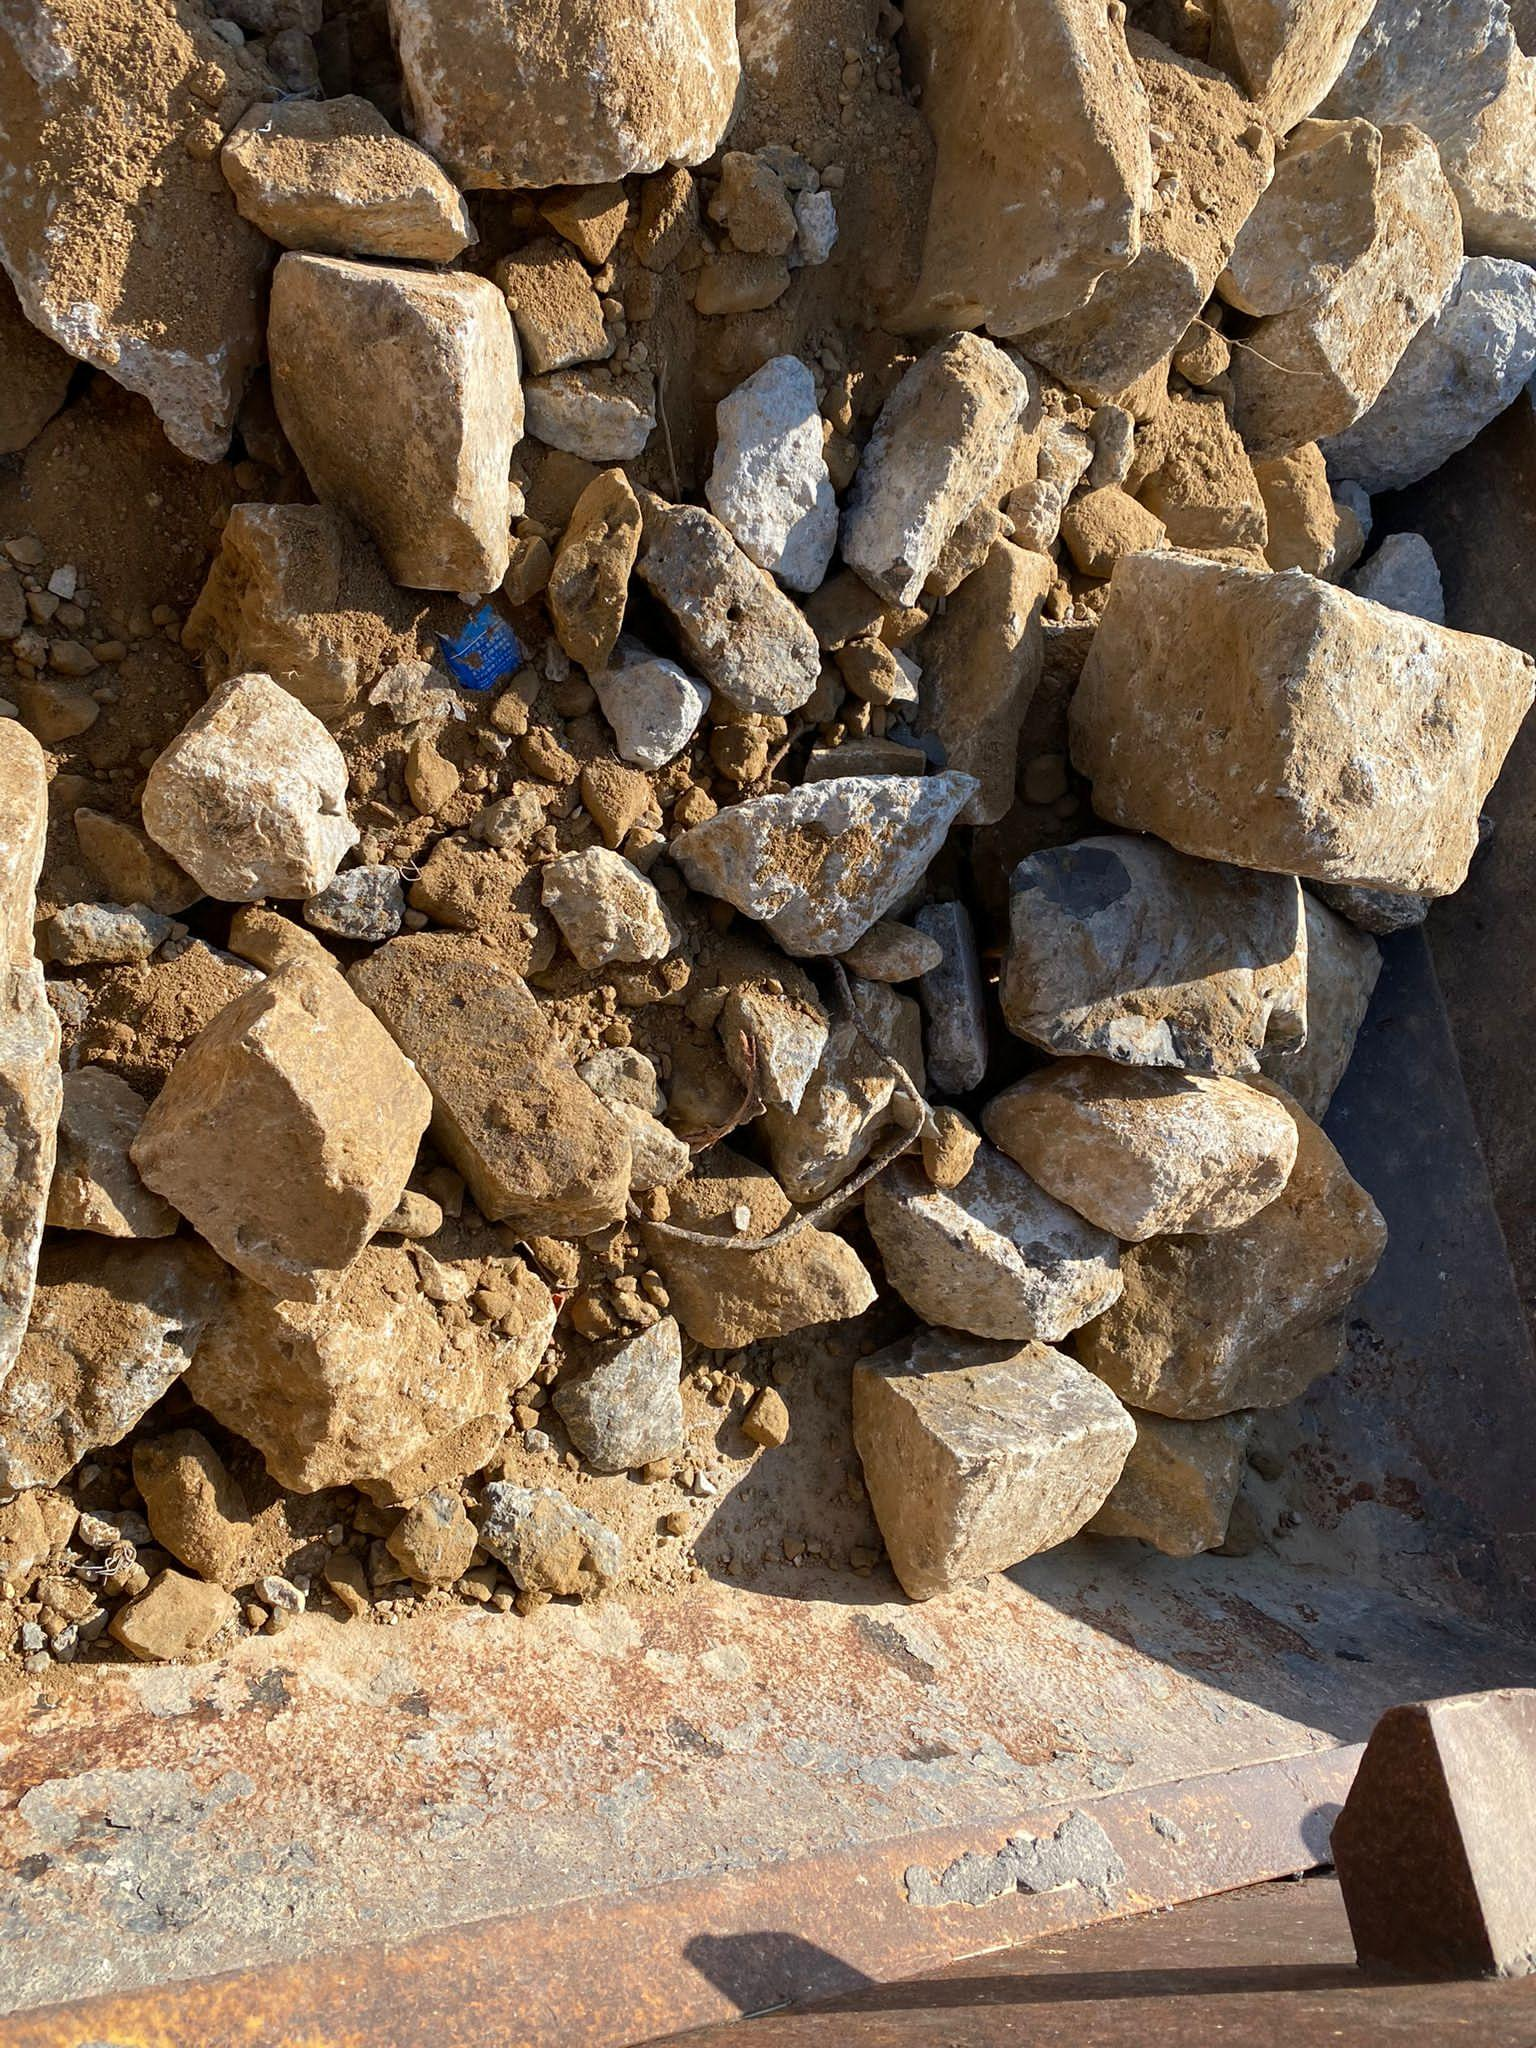dirt: (2, 1, 1533, 2034)
stone: (1065, 544, 1534, 901), (126, 953, 435, 1301), (264, 248, 526, 598), (849, 1326, 1138, 1602), (386, 0, 743, 191), (978, 1053, 1299, 1243), (1328, 1684, 1533, 1981), (666, 767, 979, 959), (139, 670, 361, 904), (218, 92, 476, 262)
